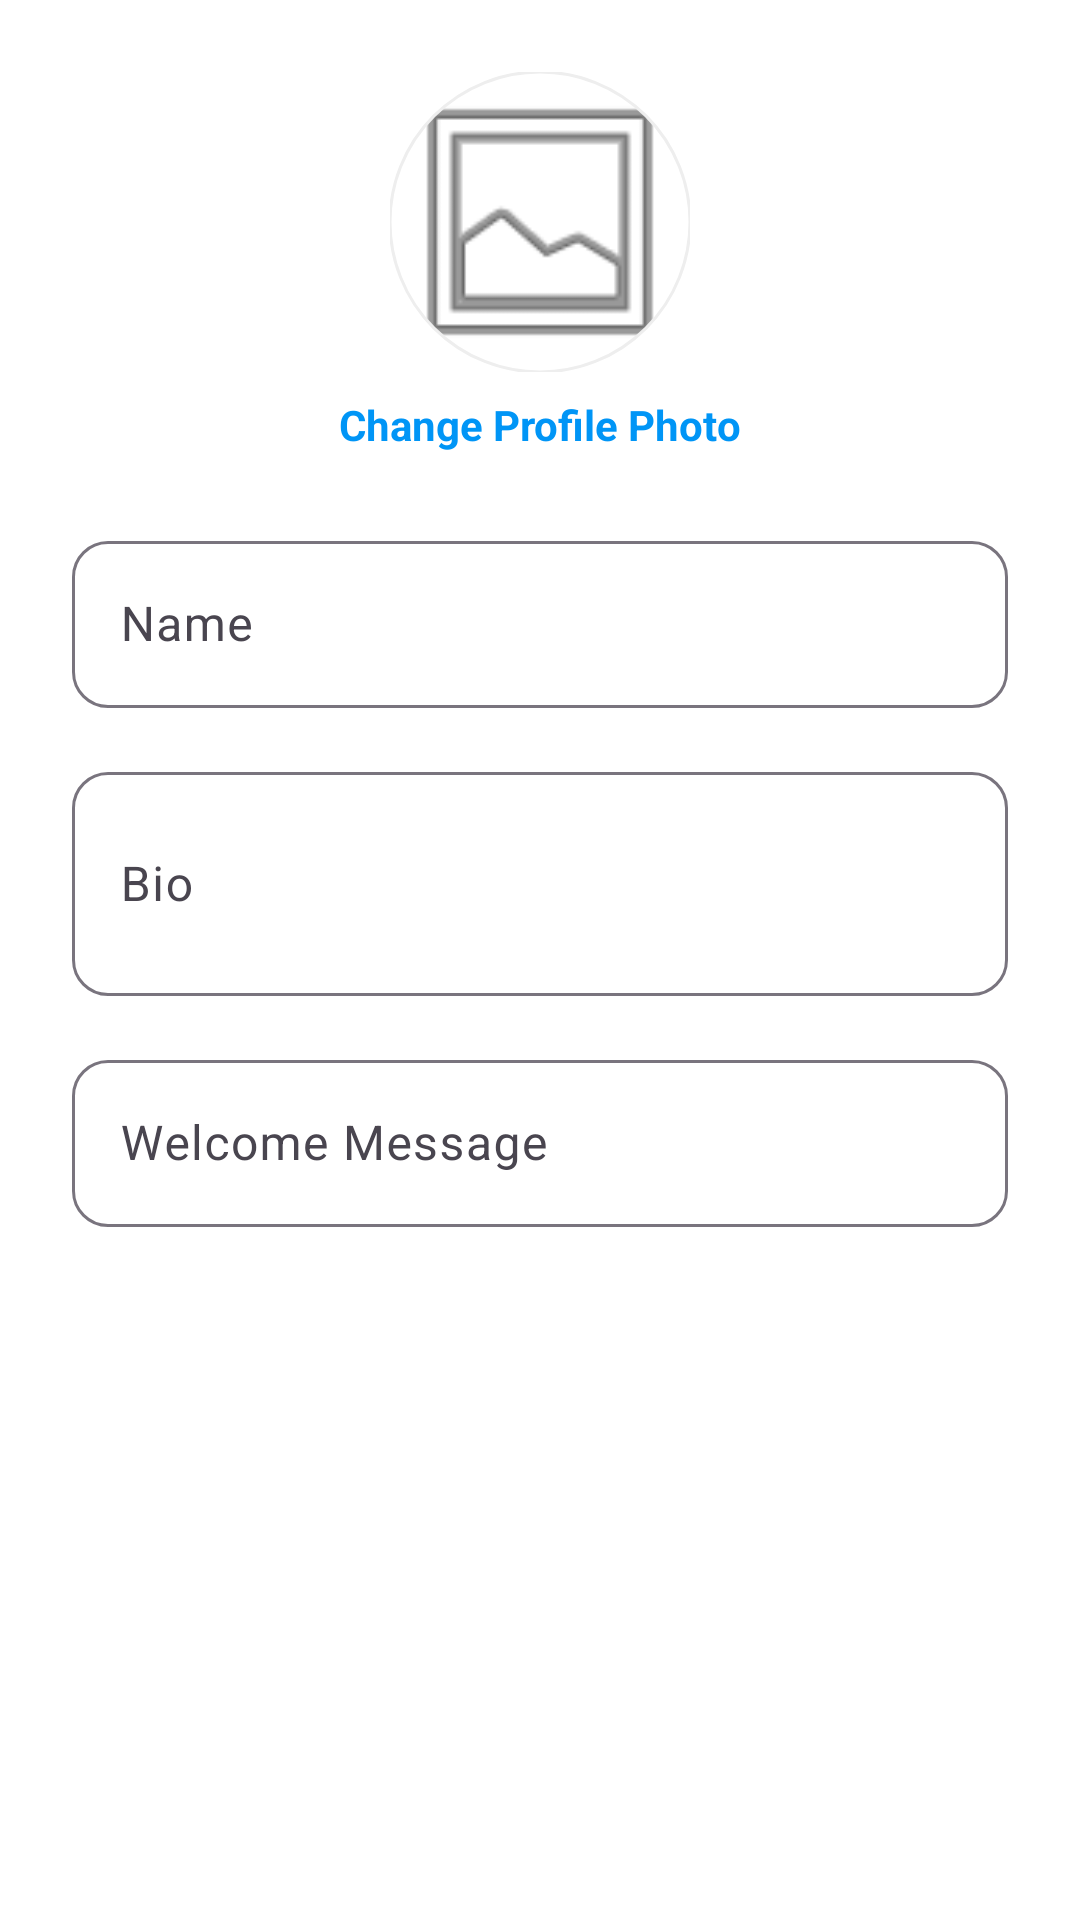

Point at icon controls on the screen. Image size 1080*1920, points as (x=x, y=y).
gallery: (x=540, y=222)
